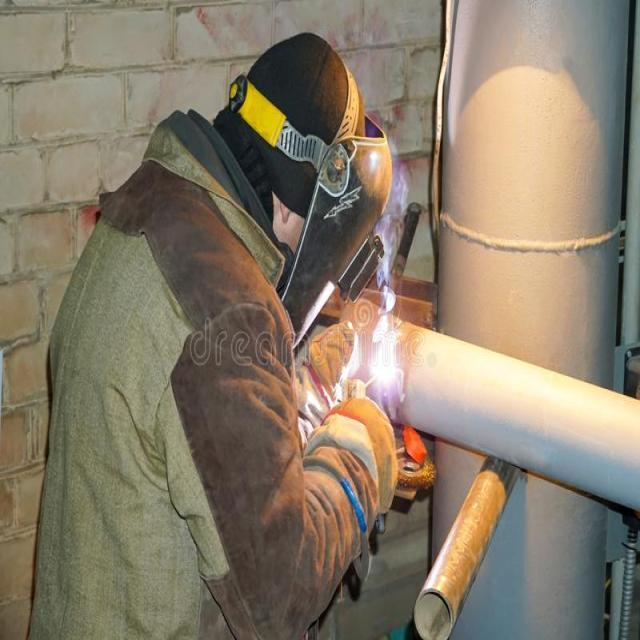with_helmet: (278, 137, 392, 344)
